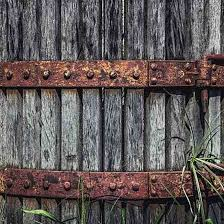rust: (2, 61, 222, 87), (2, 168, 169, 199)
